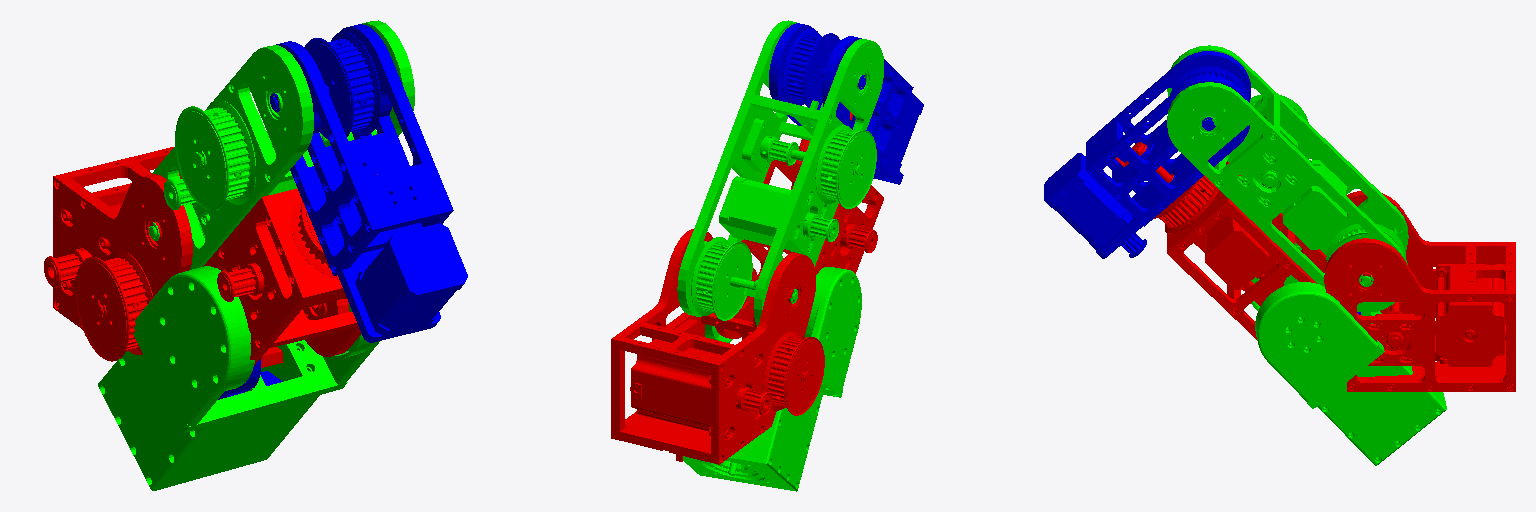
URDF robot description (sixrobot):
<?xml version="1.0" ?>
<robot
  name="sixrobot">
  <link
    name="base_link">
    <inertial>
      <origin
        xyz="0.14555 0.062586 -0.15713"
        rpy="0 0 0" />
      <mass
        value="4.0022" />
      <inertia
        ixx="0.012253"
        ixy="-2.6729E-06"
        ixz="2.0656E-06"
        iyy="0.0093348"
        iyz="0.0019878"
        izz="0.003386" />
    </inertial>
    <visual>
      <origin
        xyz="0 0 0"
        rpy="0 0 0" />
      <geometry>
        <mesh
          filename="package://sixrobot_description/meshes/base_link.stl" />
      </geometry>
      <material
        name="">
        <color
          rgba="245 245 245 1" />
      </material>
    </visual>
    <collision>
      <origin
        xyz="0 0 0"
        rpy="0 0 0" />
      <geometry>
        <mesh
          filename="package://sixrobot_description/meshes/base_link.stl" />
      </geometry>
    </collision>
  </link>
  <link
    name="Link1">
    <inertial>
      <origin
        xyz="0.014283 0.062229 -0.0073351"
        rpy="0 0 0" />
      <mass
        value="2.9711" />
      <inertia
        ixx="0.0030896"
        ixy="4.1872E-05"
        ixz="-0.0003107"
        iyy="0.004441"
        iyz="1.6622E-05"
        izz="0.0027928" />
    </inertial>
    <visual>
      <origin
        xyz="0 0 0"
        rpy="0 0 0" />
      <geometry>
        <mesh
          filename="package://sixrobot_description/meshes/Link1.stl" />
      </geometry>
      <material
        name="">
        <color
          rgba="255 0 0 1" />
      </material>
    </visual>
    <collision>
      <origin
        xyz="0 0 0"
        rpy="0 0 0" />
      <geometry>
        <mesh
          filename="package://sixrobot_description/meshes/Link1.stl" />
      </geometry>
    </collision>
  </link>
  <joint
    name="joint1"
    type="revolute">
    <origin
      xyz="0.14553 0.082167 0.0937"
      rpy="1.5708 1.2811E-08 1.5708" />
    <parent
      link="base_link" />
    <child
      link="Link1" />
    <axis
      xyz="0 1 0" />
    <limit
      lower="-1.57"
      upper="1.57"
      effort="0"
      velocity="0" />
  </joint>
  <link
    name="Link2">
    <inertial>
      <origin
        xyz="-0.081903 -6.2825E-05 -0.0062784"
        rpy="0 0 0" />
      <mass
        value="1.2043" />
      <inertia
        ixx="0.0012825"
        ixy="-4.0552E-06"
        ixz="-0.0004638"
        iyy="0.0034706"
        iyz="-3.3631E-06"
        izz="0.0022087" />
    </inertial>
    <visual>
      <origin
        xyz="0 0 0"
        rpy="0 0 0" />
      <geometry>
        <mesh
          filename="package://sixrobot_description/meshes/Link2.stl" />
      </geometry>
      <material
        name="">
        <color
          rgba="0 255 0 1" />
      </material>
    </visual>
    <collision>
      <origin
        xyz="0 0 0"
        rpy="0 0 0" />
      <geometry>
        <mesh
          filename="package://sixrobot_description/meshes/Link2.stl" />
      </geometry>
    </collision>
  </link>
  <joint
    name="joint2"
    type="revolute">
    <origin
      xyz="-0.053834 0.12 0"
      rpy="-4.996E-14 -1.6098E-13 -2.8449" />
    <parent
      link="Link1" />
    <child
      link="Link2" />
    <axis
      xyz="0 0 1" />
    <limit
      lower="0.296"
      upper="3.768"
      effort="0"
      velocity="0" />
  </joint>
  <link
    name="Link3">
    <inertial>
      <origin
        xyz="-0.0030891 0.053464 0.0015565"
        rpy="0 0 0" />
      <mass
        value="0.79833" />
      <inertia
        ixx="0.0019731"
        ixy="0.00011484"
        ixz="-4.1195E-06"
        iyy="0.00037597"
        iyz="6.6446E-05"
        izz="0.0019652" />
    </inertial>
    <visual>
      <origin
        xyz="0 0 0"
        rpy="0 0 0" />
      <geometry>
        <mesh
          filename="package://sixrobot_description/meshes/Link3.stl" />
      </geometry>
      <material
        name="">
        <color
          rgba="0 0 255 1" />
      </material>
    </visual>
    <collision>
      <origin
        xyz="0 0 0"
        rpy="0 0 0" />
      <geometry>
        <mesh
          filename="package://sixrobot_description/meshes/Link3.stl" />
      </geometry>
    </collision>
  </link>
  <joint
    name="joint3"
    type="revolute">
    <origin
      xyz="-0.19 0 0"
      rpy="-4.4409E-14 -1.4433E-13 -3.1416" />
    <parent
      link="Link2" />
    <child
      link="Link3" />
    <axis
      xyz="0 0 1" />
    <limit
      lower="-3.14"
      upper="0"
      effort="0"
      velocity="0" />
  </joint>
  <link
    name="Link4">
    <inertial>
      <origin
        xyz="-0.10243 0.00012682 -0.0034682"
        rpy="0 0 0" />
      <mass
        value="0.77257" />
      <inertia
        ixx="0.00045081"
        ixy="-4.7414E-06"
        ixz="-1.86E-05"
        iyy="0.0019073"
        iyz="-8.0337E-08"
        izz="0.0014729" />
    </inertial>
    <visual>
      <origin
        xyz="0 0 0"
        rpy="0 0 0" />
      <geometry>
        <mesh
          filename="package://sixrobot_description/meshes/Link4.stl" />
      </geometry>
      <material
        name="">
        <color
          rgba="255 0 0 1" />
      </material>
    </visual>
    <collision>
      <origin
        xyz="0 0 0"
        rpy="0 0 0" />
      <geometry>
        <mesh
          filename="package://sixrobot_description/meshes/Link4.stl" />
      </geometry>
    </collision>
  </link>
  <joint
    name="joint4"
    type="revolute">
    <origin
      xyz="0 0.072 0"
      rpy="-8.3267E-15 1.0547E-13 6.4893E-14" />
    <parent
      link="Link3" />
    <child
      link="Link4" />
    <axis
      xyz="-1 0 0" />
    <limit
      lower="-1.5708"
      upper="1.5708"
      effort="0"
      velocity="0" />
  </joint>
  <link
    name="Link5">
    <inertial>
      <origin
        xyz="-0.03177 0.012539 -0.0082766"
        rpy="0 0 0" />
      <mass
        value="0.7621" />
      <inertia
        ixx="0.00088662"
        ixy="0.00027254"
        ixz="0.00023505"
        iyy="0.0011014"
        iyz="-0.00012409"
        izz="0.0010153" />
    </inertial>
    <visual>
      <origin
        xyz="0 0 0"
        rpy="0 0 0" />
      <geometry>
        <mesh
          filename="package://sixrobot_description/meshes/Link5.stl" />
      </geometry>
      <material
        name="">
        <color
          rgba="0 255 0 1" />
      </material>
    </visual>
    <collision>
      <origin
        xyz="0 0 0"
        rpy="0 0 0" />
      <geometry>
        <mesh
          filename="package://sixrobot_description/meshes/Link5.stl" />
      </geometry>
    </collision>
  </link>
  <joint
    name="joint5"
    type="revolute">
    <origin
      xyz="-0.182 0 0"
      rpy="0.06337 -0.083358 -0.060704" />
    <parent
      link="Link4" />
    <child
      link="Link5" />
    <axis
      xyz="0.083262 0.063107 0.99453" />
    <limit
      lower="-0.69"
      upper="1.57"
      effort="0"
      velocity="0" />
  </joint>
  <link
    name="Link6">
    <inertial>
      <origin
        xyz="4.8525E-06 -0.00027138 0.054503"
        rpy="0 0 0" />
      <mass
        value="0.28753" />
      <inertia
        ixx="5.4771E-05"
        ixy="2.9237E-08"
        ixz="4.993E-09"
        iyy="5.4752E-05"
        iyz="4.997E-08"
        izz="3.9349E-06" />
    </inertial>
    <visual>
      <origin
        xyz="0 0 0"
        rpy="0 0 0" />
      <geometry>
        <mesh
          filename="package://sixrobot_description/meshes/Link6.stl" />
      </geometry>
      <material
        name="">
        <color
          rgba="0 0 255 1" />
      </material>
    </visual>
    <collision>
      <origin
        xyz="0 0 0"
        rpy="0 0 0" />
      <geometry>
        <mesh
          filename="package://sixrobot_description/meshes/Link6.stl" />
      </geometry>
    </collision>
  </link>
  <joint
    name="joint6"
    type="revolute">
    <origin
      xyz="-0.046785 -0.001336 0.0040016"
      rpy="-0.61742 -1.4661 0.64856" />
    <parent
      link="Link5" />
    <child
      link="Link6" />
    <axis
      xyz="0 0 1" />
    <limit
      lower="-1.5708"
      upper="1.5708"
      effort="0"
      velocity="0" />
  </joint>

    <link name="camera_link">
        <visual>
            <origin xyz=" 0 0 0 " rpy="0 0 0" />
            <geometry>
                <box size="0.04 0.02 0.02" />
            </geometry>
            <material name="black">
                <color rgba="0 0 255 1"/>
            </material>
        </visual>
    </link>

    <joint name="camera_joint" type="fixed">
        <origin xyz="0.14555 0 0.10" rpy="0 0 0"/>
        <parent link="base_link"/>
        <child link="camera_link"/>
    </joint>

</robot>

--- What the picture shows (computed from the rendered views, not written in the file) ---
The picture shows the robot from 3 angles, left to right: view 1: azimuth 30°, elevation 25°; view 2: azimuth 150°, elevation 25°; view 3: azimuth 270°, elevation 25°; orthographic projection.
Robot: sixrobot — 8 links, 7 joints (6 revolute, 1 fixed); root link base_link; default pose: joints at zero except 1 at the middle of their limits (joint2 = 2.03).
Visible links, largest first — view 1: Link3, Link5, Link2, Link1, Link4; view 2: Link2, Link1, Link5, Link3, Link4; view 3: Link1, Link2, Link3, Link5, Link4.
Link boxes in pixels (<box>): Link3: <box>270,24,467,342</box>; Link5: <box>98,266,379,490</box>; Link2: <box>149,20,414,269</box>; Link1: <box>44,147,283,367</box>; Link4: <box>203,174,377,365</box>; Link2: <box>677,20,883,326</box>; Link1: <box>611,229,824,464</box>; Link5: <box>683,267,861,491</box>; Link3: <box>769,23,923,184</box>; Link4: <box>715,112,883,338</box>; Link1: <box>1324,191,1515,391</box>; Link2: <box>1167,45,1408,312</box>; Link3: <box>1044,51,1250,258</box>; Link5: <box>1251,242,1446,465</box>; Link4: <box>1115,142,1326,339</box>.
Size in the robot's own frame: 0.141 by 0.3911 by 0.3513 metres.
6 mesh visuals loaded from 7 distinct referenced files (6 binary STL); not drawn: 1 (reference not matched to a file when rendering).